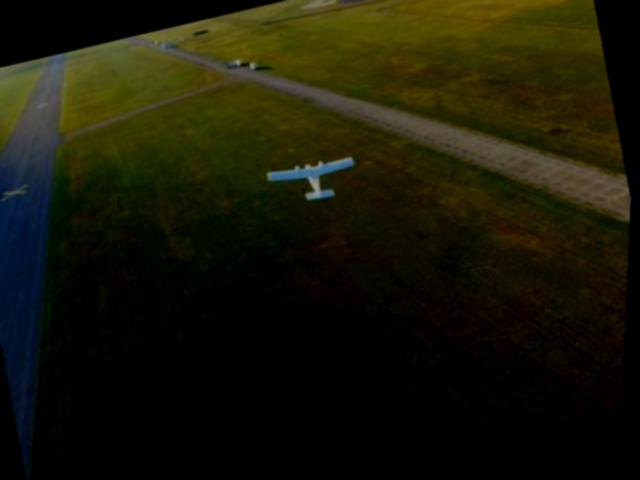uav: (264, 151, 363, 213)
